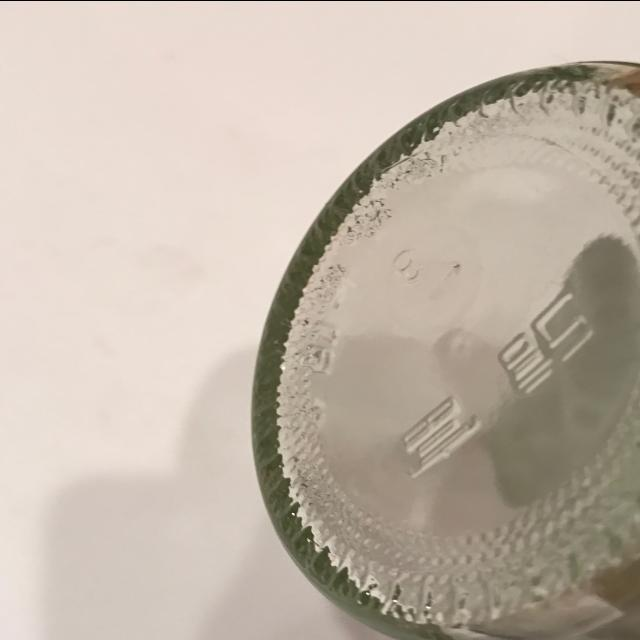glass: (243, 61, 640, 640)
